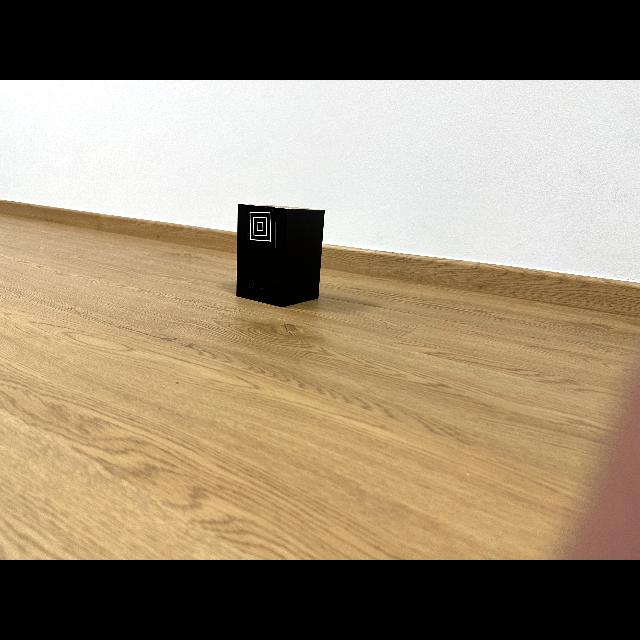BULLSEYE: (246, 206, 276, 248)
